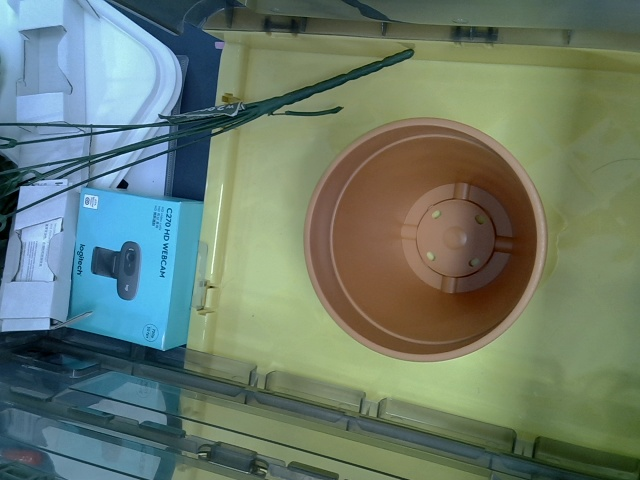화분: (303, 116, 551, 363)
